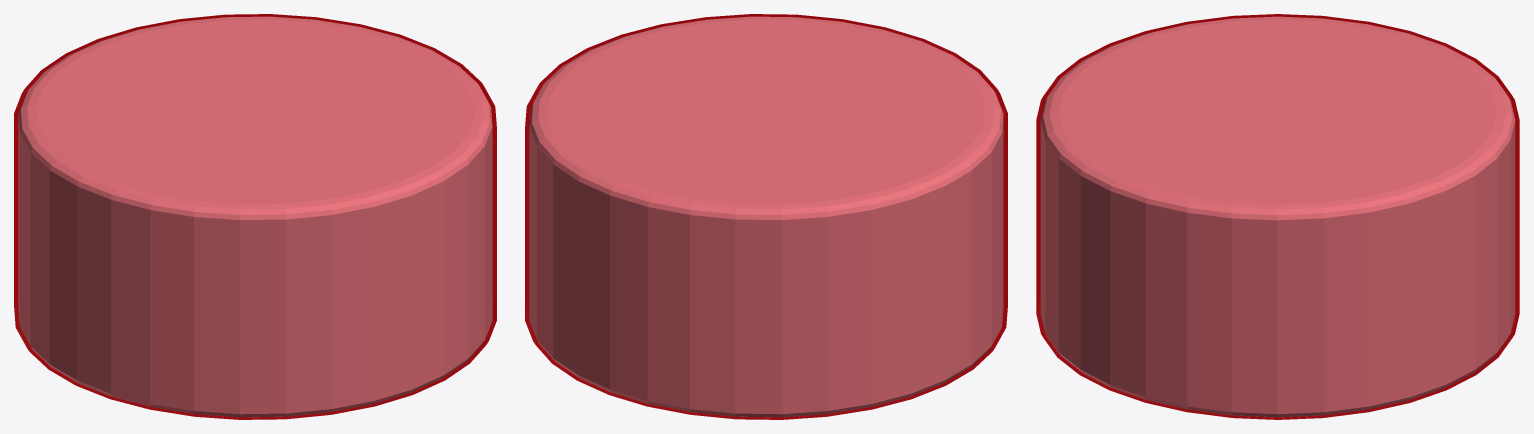
Rendered from circulo morango.glb.
3 views of the same model, side by side, from view 1: azimuth 30°, elevation 25°; view 2: azimuth 150°, elevation 25°; view 3: azimuth 270°, elevation 25° (orthographic).
Parts seen in each view (by area): view 1: Cylinder.014; view 2: Cylinder.014; view 3: Cylinder.014.
Part boxes in pixels (box(x1,y1,x2,y2)): Cylinder.014: box(14, 14, 496, 419); Cylinder.014: box(525, 14, 1007, 419); Cylinder.014: box(1036, 14, 1519, 419).
Bounding box in the file's own units: 20.47 × 9.98 × 20.47.
